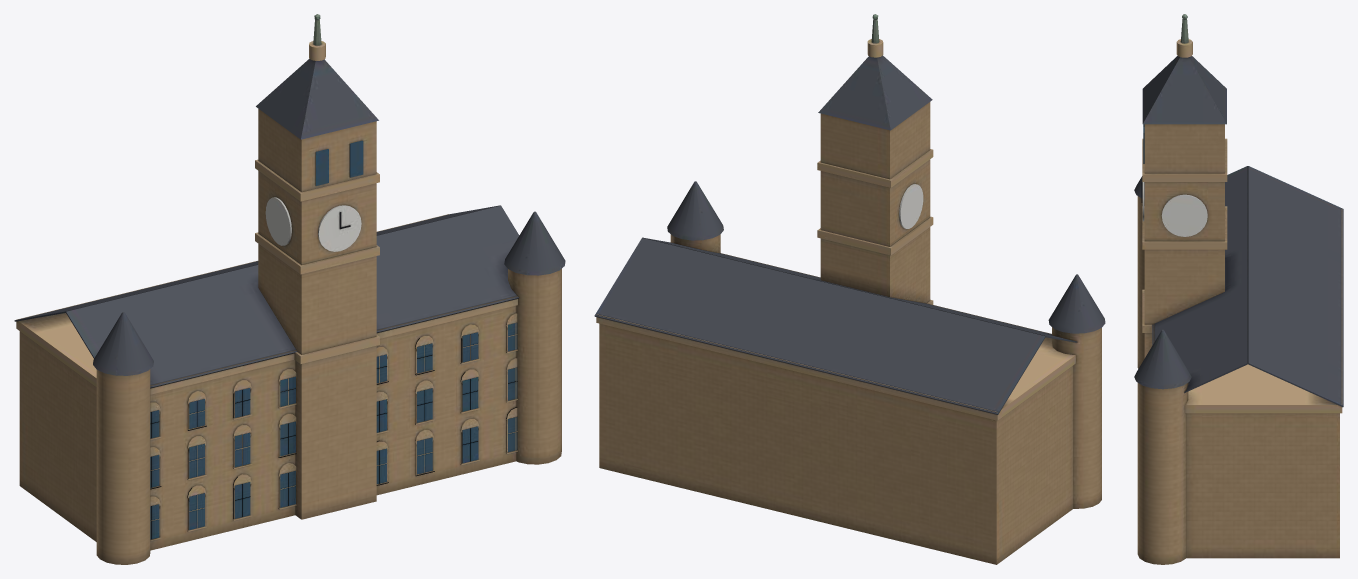
The model's file is city_county_slc.glb.
The picture shows the model from 3 angles, left to right: view 1: azimuth 30°, elevation 25°; view 2: azimuth 150°, elevation 25°; view 3: azimuth 270°, elevation 25°; orthographic projection. The views are drawn at different scales.
Visible parts, largest first — view 1: city_county_slc; view 2: city_county_slc; view 3: city_county_slc.
Part boxes in pixels (bbox=[...]): city_county_slc: bbox=[14, 14, 565, 564]; city_county_slc: bbox=[594, 14, 1105, 564]; city_county_slc: bbox=[1134, 14, 1343, 564].
Size of the model in its own units: 43.4 by 42.88 by 18.23.
1 material, 1 textured.
